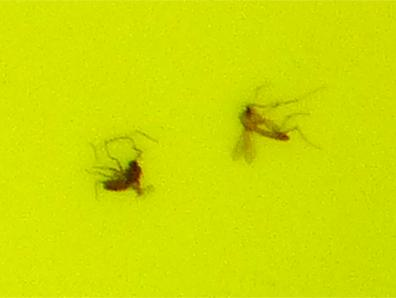Nematocera: (235, 100, 296, 160), (100, 149, 150, 198)
